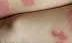plaque psoriasis: (50, 28, 67, 43), (0, 0, 10, 16), (68, 3, 72, 41), (22, 0, 35, 6)
